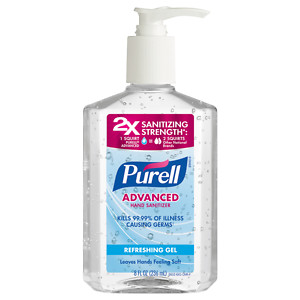Sanitizer: (77, 3, 224, 296)
